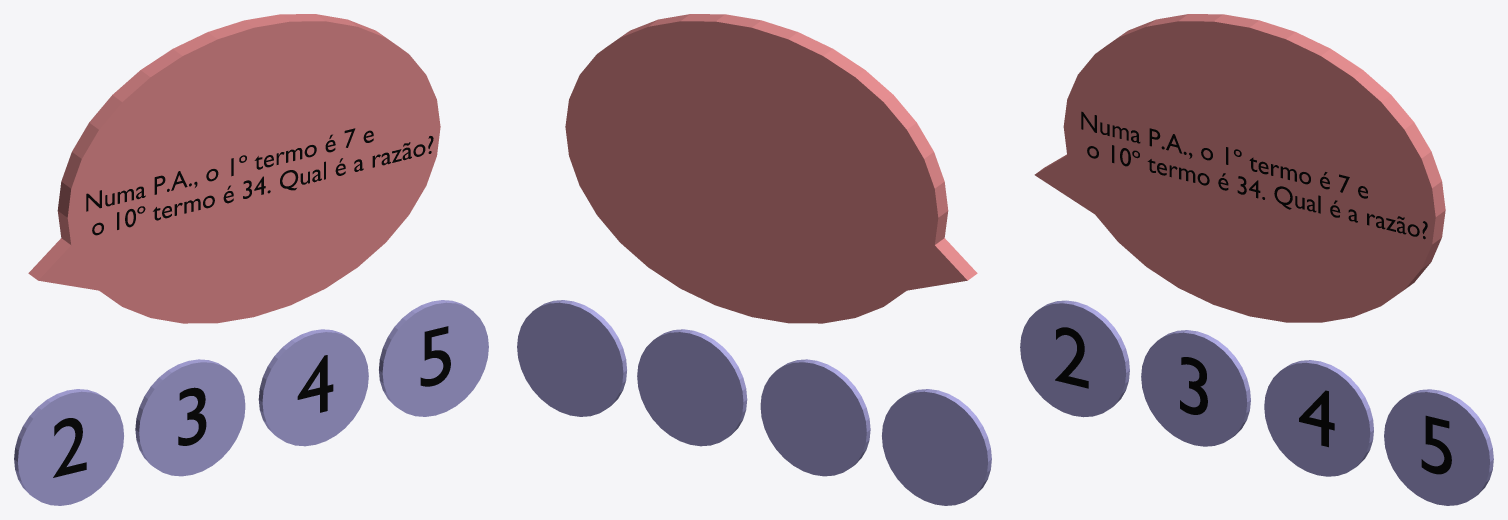
File: 5PERGUNTA.fbx
3 renders of one model, left to right at view 1: azimuth 30°, elevation 25°; view 2: azimuth 150°, elevation 25°; view 3: azimuth 330°, elevation 25°, orthographic.
Visible parts, largest first — view 1: 5PERGUNTA, A)2, B)3crt, D)5, C)4; view 2: 5PERGUNTA, A)2, B)3crt, D)5, C)4; view 3: 5PERGUNTA, C)4, B)3crt, D)5, A)2.
Part boxes in pixels (box(x1,y1,x2,y2)): 5PERGUNTA: box(28, 14, 440, 323); A)2: box(14, 389, 123, 505); B)3crt: box(135, 359, 245, 476); D)5: box(379, 300, 488, 416); C)4: box(258, 329, 368, 446); 5PERGUNTA: box(565, 14, 977, 323); A)2: box(882, 389, 991, 505); B)3crt: box(760, 359, 870, 476); D)5: box(517, 300, 626, 416); C)4: box(637, 329, 747, 446); 5PERGUNTA: box(1034, 14, 1445, 322); C)4: box(1264, 360, 1373, 476); B)3crt: box(1141, 330, 1250, 446); D)5: box(1384, 389, 1493, 505); A)2: box(1020, 300, 1129, 417).
Bounding box in the file's own units: 253 × 223 × 9.69.
